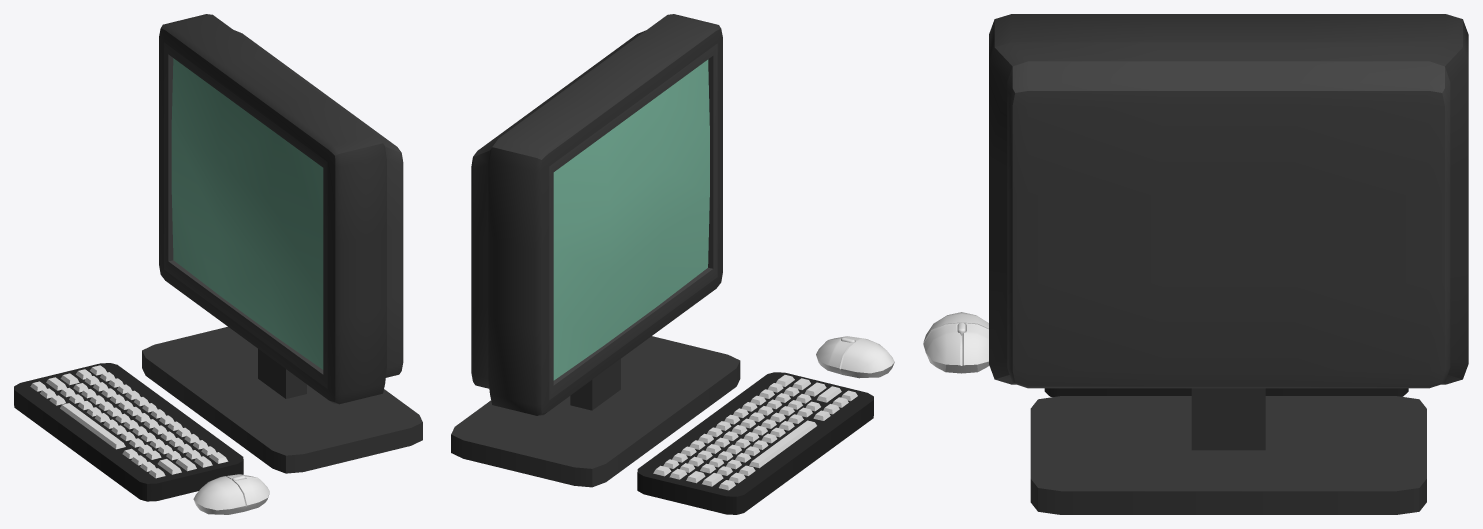
Rendered from OBJ_Computer1.fbx.
3 views of the same model, side by side, from view 1: azimuth 30°, elevation 25°; view 2: azimuth 150°, elevation 25°; view 3: azimuth 270°, elevation 25° (orthographic). The views are drawn at different scales.
Visible parts, largest first — view 1: Box087, Box105, Box220, Box123; view 2: Box087, Box105, Box220, Box123; view 3: Box087, Box220, Box105.
Part boxes in pixels (<box>): Box087: <box>142,14,422,473</box>; Box105: <box>14,363,243,501</box>; Box220: <box>193,474,269,514</box>; Box123: <box>60,403,125,449</box>; Box087: <box>451,14,740,487</box>; Box105: <box>637,372,873,514</box>; Box220: <box>816,336,894,378</box>; Box123: <box>749,420,816,468</box>; Box087: <box>989,14,1468,514</box>; Box220: <box>923,312,989,373</box>; Box105: <box>1044,388,1408,397</box>.
Bounding box in the file's own units: 18.79 × 20.97 × 23.93.
